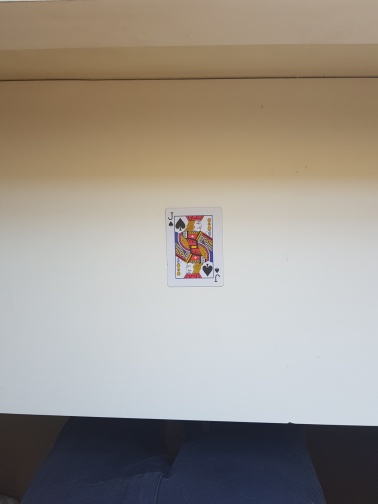jack: (164, 207, 225, 288)
